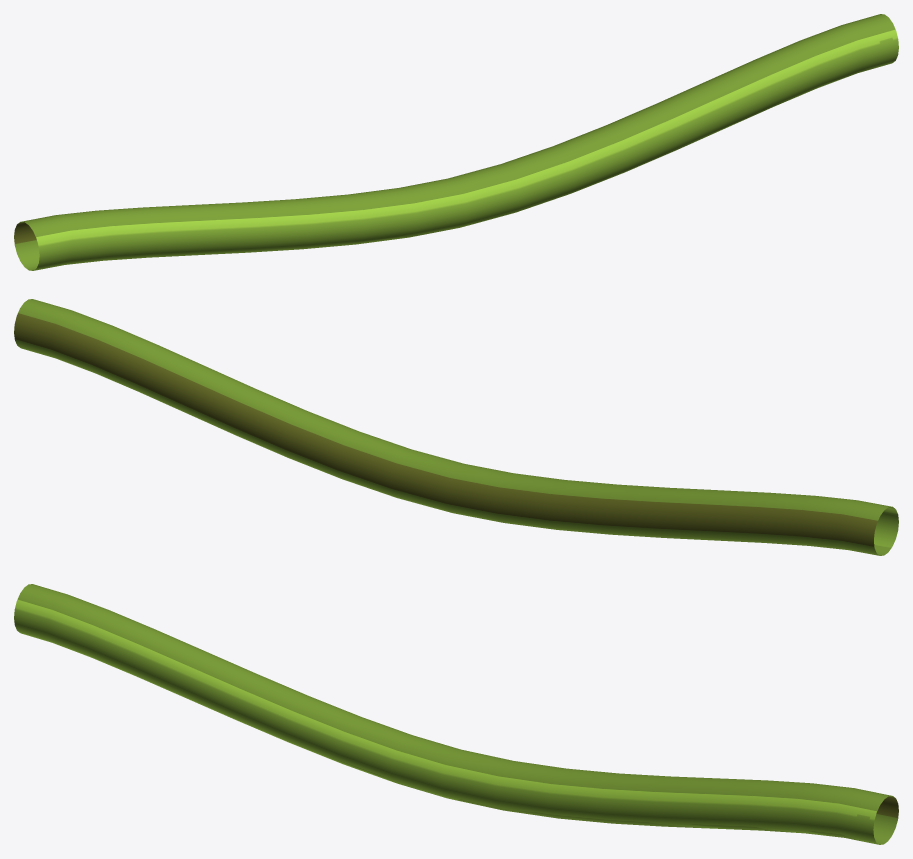
Rendered from SM_Wire_Big_Green_VeryLong.fbx.
The picture shows the model from 3 angles, top to bottom: view 1: azimuth 30°, elevation 25°; view 2: azimuth 150°, elevation 25°; view 3: azimuth 330°, elevation 25°; orthographic projection.
Parts seen in each view (by area): view 1: Sm_Wire_Big_Green_Verylong; view 2: Sm_Wire_Big_Green_Verylong; view 3: Sm_Wire_Big_Green_Verylong.
Part boxes in pixels (left/top/right/bottom): Sm_Wire_Big_Green_Verylong: left=14, top=14, right=898, bottom=270; Sm_Wire_Big_Green_Verylong: left=14, top=299, right=898, bottom=555; Sm_Wire_Big_Green_Verylong: left=14, top=584, right=898, bottom=844.
Size of the model in its own units: 3.15 by 1.37 by 26.59.
1 material, 1 textured.
